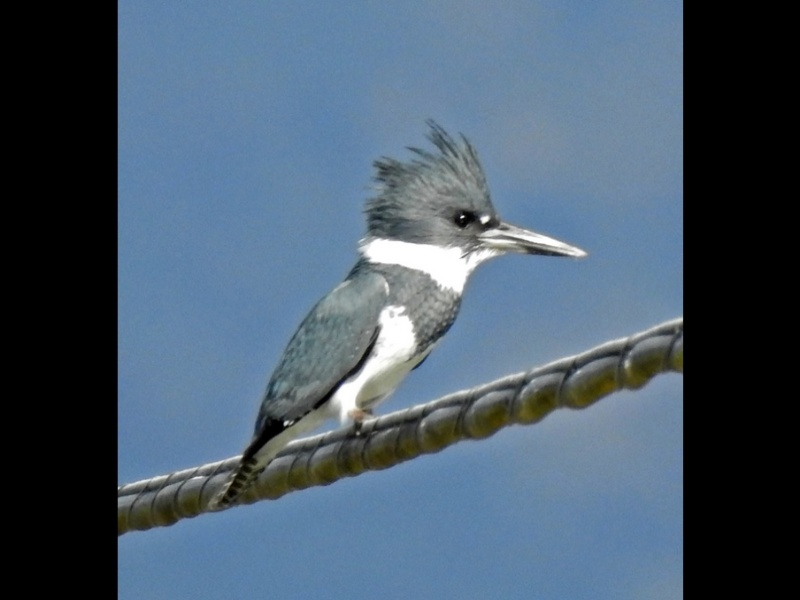kingfisher: (212, 116, 591, 515)
